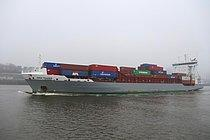Ship: (17, 48, 208, 100)
